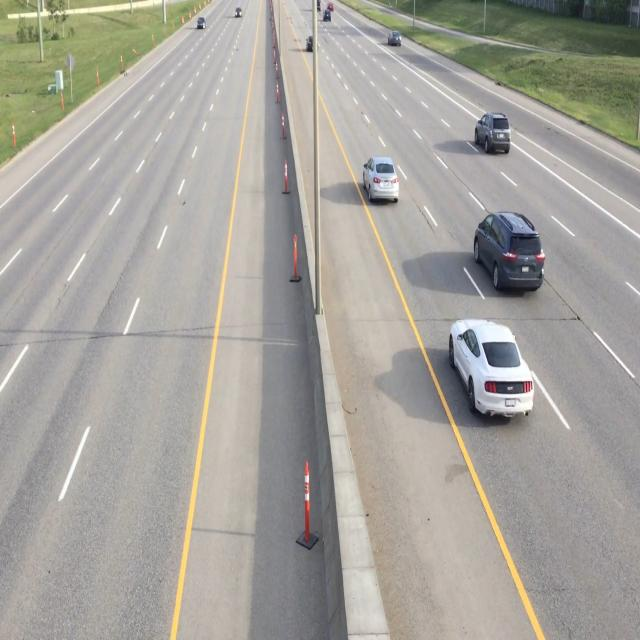Car: (445, 313, 538, 423), (472, 210, 546, 298), (361, 157, 402, 208), (472, 111, 514, 157)
